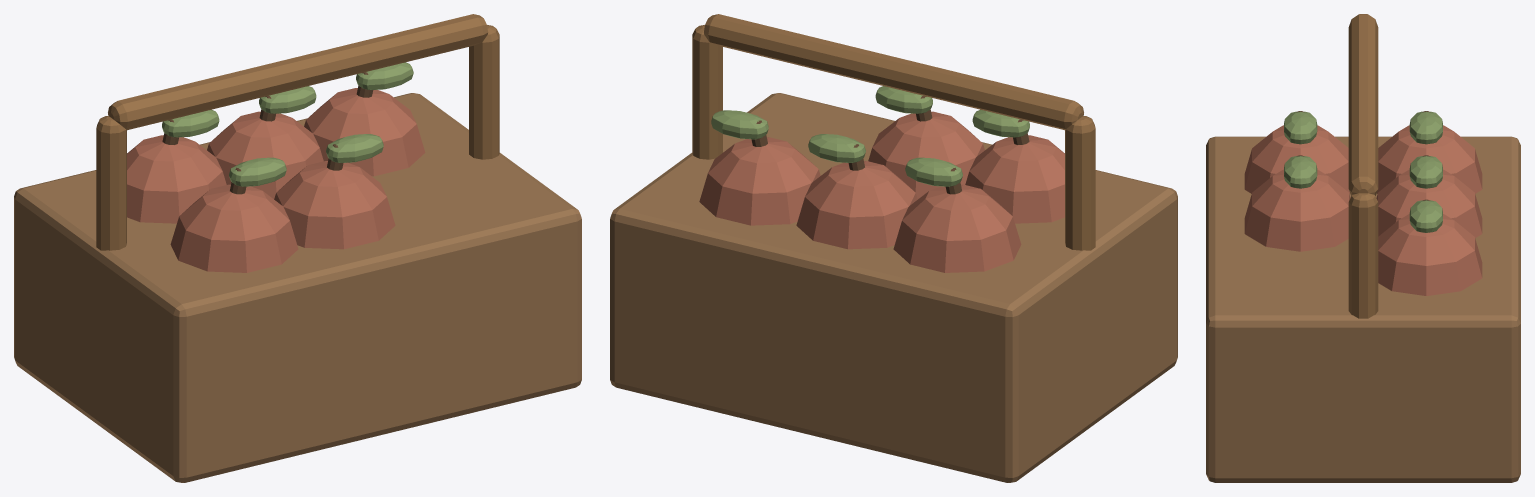
File: apple-basket.glb
3 views of the same model, side by side, from view 1: azimuth 30°, elevation 25°; view 2: azimuth 150°, elevation 25°; view 3: azimuth 270°, elevation 25° (orthographic). The views are drawn at different scales.
Visible parts, largest first — view 1: apple-basket_Discovery_Mesh, discovery_Bloom3.001_Mesh, discovery_Bloom4.001_Mesh, discovery_Bloom0.001_Mesh, discovery_Bloom2.001_Mesh, discovery_Bloom1.001_Mesh; view 2: apple-basket_Discovery_Mesh, discovery_Bloom0.001_Mesh, discovery_Bloom2.001_Mesh, discovery_Bloom1.001_Mesh, discovery_Bloom3.001_Mesh, discovery_Bloom4.001_Mesh; view 3: apple-basket_Discovery_Mesh, discovery_Bloom4.001_Mesh, discovery_Bloom2.001_Mesh, discovery_Bloom1.001_Mesh, discovery_Bloom0.001_Mesh, discovery_Bloom3.001_Mesh.
Part boxes in pixels (left/top/right/bottom): apple-basket_Discovery_Mesh: left=14, top=14, right=581, bottom=482; discovery_Bloom3.001_Mesh: left=170, top=157, right=298, bottom=272; discovery_Bloom4.001_Mesh: left=274, top=134, right=395, bottom=249; discovery_Bloom0.001_Mesh: left=127, top=109, right=226, bottom=223; discovery_Bloom2.001_Mesh: left=304, top=62, right=425, bottom=176; discovery_Bloom1.001_Mesh: left=207, top=86, right=323, bottom=198; apple-basket_Discovery_Mesh: left=610, top=14, right=1177, bottom=482; discovery_Bloom0.001_Mesh: left=893, top=157, right=1021, bottom=272; discovery_Bloom2.001_Mesh: left=699, top=110, right=820, bottom=225; discovery_Bloom1.001_Mesh: left=796, top=134, right=917, bottom=249; discovery_Bloom3.001_Mesh: left=965, top=109, right=1064, bottom=223; discovery_Bloom4.001_Mesh: left=868, top=86, right=984, bottom=198; apple-basket_Discovery_Mesh: left=1206, top=14, right=1520, bottom=482; discovery_Bloom4.001_Mesh: left=1244, top=155, right=1350, bottom=251; discovery_Bloom2.001_Mesh: left=1378, top=199, right=1482, bottom=295; discovery_Bloom1.001_Mesh: left=1376, top=155, right=1482, bottom=237; discovery_Bloom0.001_Mesh: left=1377, top=111, right=1482, bottom=193; discovery_Bloom3.001_Mesh: left=1244, top=111, right=1349, bottom=193.
Bounding box in the file's own units: 1.05 × 0.7833 × 0.75.
